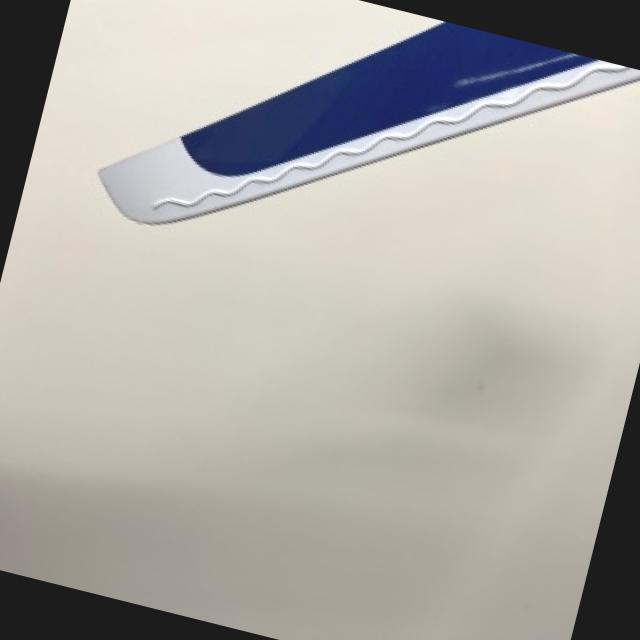healthy: (103, 22, 640, 219)
